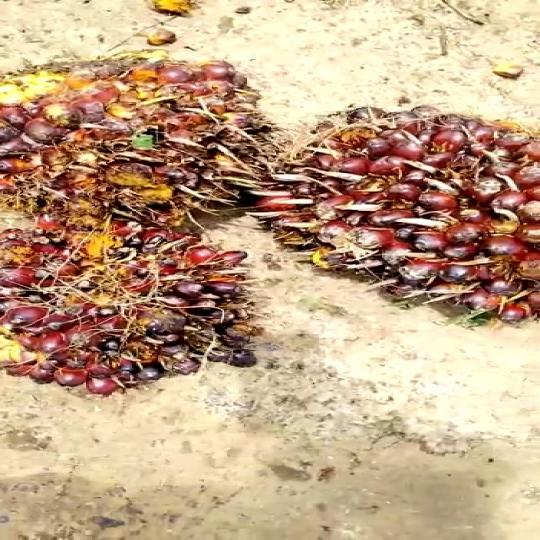masak: (237, 90, 540, 347), (0, 29, 304, 247), (0, 217, 276, 406)
